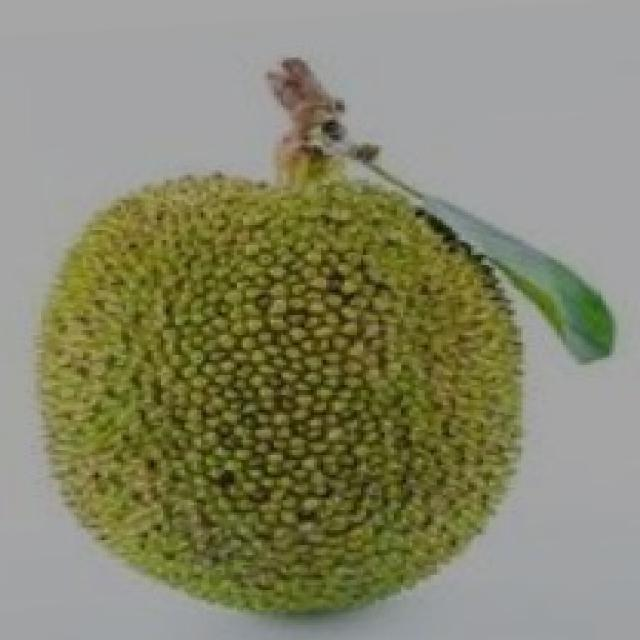Fruit: (7, 152, 416, 630), (240, 235, 578, 635)
